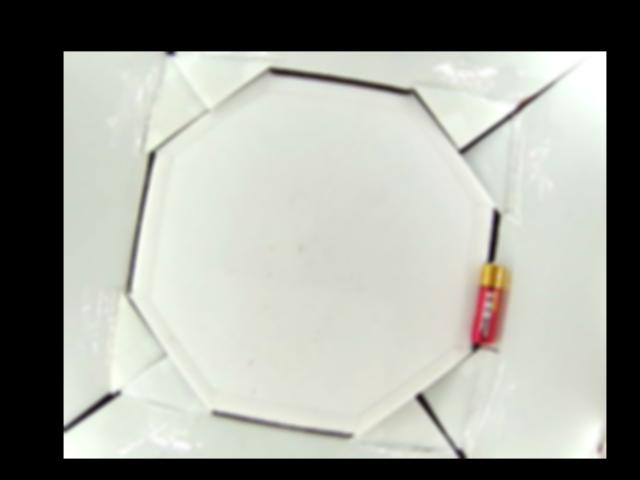Battery: (471, 261, 505, 343)
